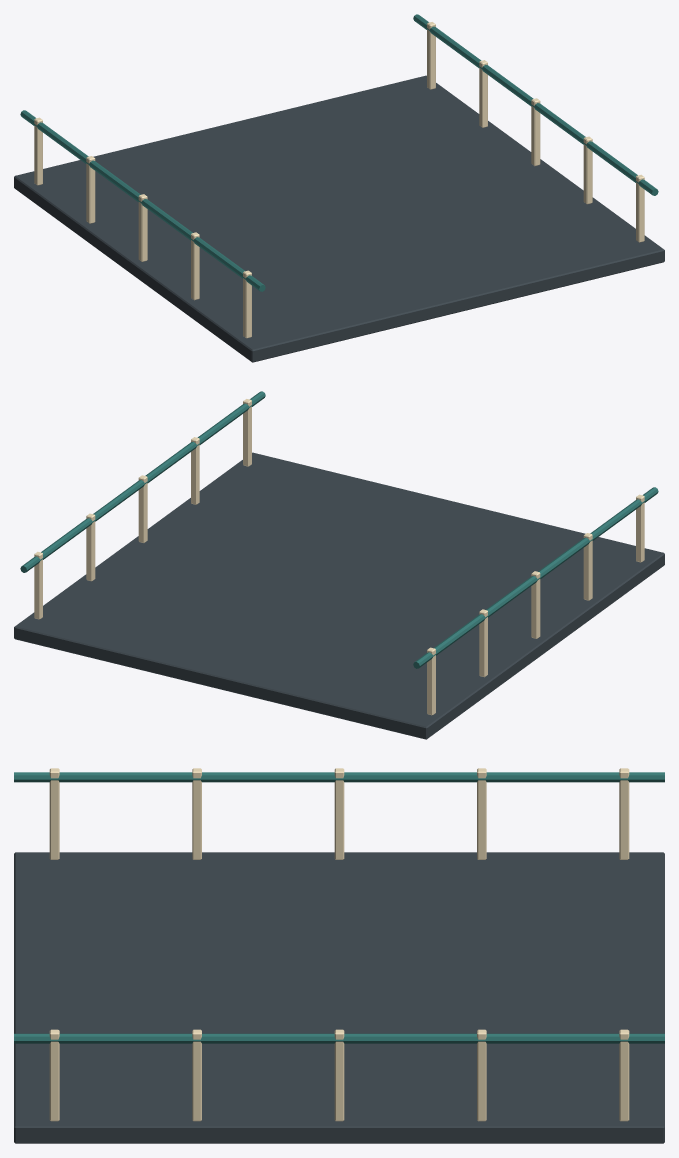
Rendered from Bridge_8m.fbx.
3 renders of one model, top to bottom at view 1: azimuth 30°, elevation 25°; view 2: azimuth 150°, elevation 25°; view 3: azimuth 270°, elevation 25°, orthographic. The views are drawn at different scales.
Visible parts, largest first — view 1: Deck, Rail, Rail.001, RailPost.006, RailPost.003, RailPost.002, RailPost.007, RailPost.004, RailPost.008, RailPost, RailPost.009, RailPost.005 (+1 smaller); view 2: Deck, Rail, Rail.001, RailPost.008, RailPost.001, RailPost.002, RailPost.007, RailPost, RailPost.006, RailPost.004, RailPost.005, RailPost.009 (+1 smaller); view 3: Deck, Rail, Rail.001, RailPost.005, RailPost.009, RailPost.007, RailPost.002, RailPost, RailPost.004, RailPost.006, RailPost.008, RailPost.001 (+1 smaller).
Part boxes in pixels (bbox=[...]): Deck: bbox=[14, 75, 664, 362]; Rail: bbox=[20, 110, 265, 291]; Rail.001: bbox=[413, 14, 658, 195]; RailPost.006: bbox=[583, 136, 592, 204]; RailPost.003: bbox=[86, 156, 95, 223]; RailPost.002: bbox=[138, 194, 147, 261]; RailPost.007: bbox=[531, 98, 540, 165]; RailPost.004: bbox=[34, 117, 42, 185]; RailPost.008: bbox=[479, 60, 487, 127]; RailPost: bbox=[243, 270, 251, 338]; RailPost.009: bbox=[427, 22, 435, 89]; RailPost.005: bbox=[636, 174, 644, 242]; Deck: bbox=[14, 452, 664, 739]; Rail: bbox=[413, 487, 658, 668]; Rail.001: bbox=[20, 391, 265, 572]; RailPost.008: bbox=[86, 513, 95, 581]; RailPost.001: bbox=[583, 533, 592, 600]; RailPost.002: bbox=[531, 571, 540, 638]; RailPost.007: bbox=[138, 475, 147, 542]; RailPost: bbox=[636, 494, 644, 562]; RailPost.006: bbox=[191, 437, 199, 504]; RailPost.004: bbox=[427, 647, 435, 715]; RailPost.005: bbox=[243, 399, 251, 466]; RailPost.009: bbox=[34, 551, 42, 619]; Deck: bbox=[14, 852, 664, 1143]; Rail: bbox=[14, 772, 664, 782]; Rail.001: bbox=[14, 1033, 664, 1043]; RailPost.005: bbox=[49, 1029, 59, 1121]; RailPost.009: bbox=[619, 1029, 629, 1121]; RailPost.007: bbox=[334, 1029, 344, 1121]; RailPost.002: bbox=[334, 768, 344, 859]; RailPost: bbox=[49, 768, 59, 859]; RailPost.004: bbox=[619, 768, 629, 859]; RailPost.006: bbox=[192, 1029, 201, 1121]; RailPost.008: bbox=[477, 1029, 486, 1121]; RailPost.001: bbox=[192, 768, 201, 859].
Bounding box in the file's own units: 8 × 1.44 × 8.
